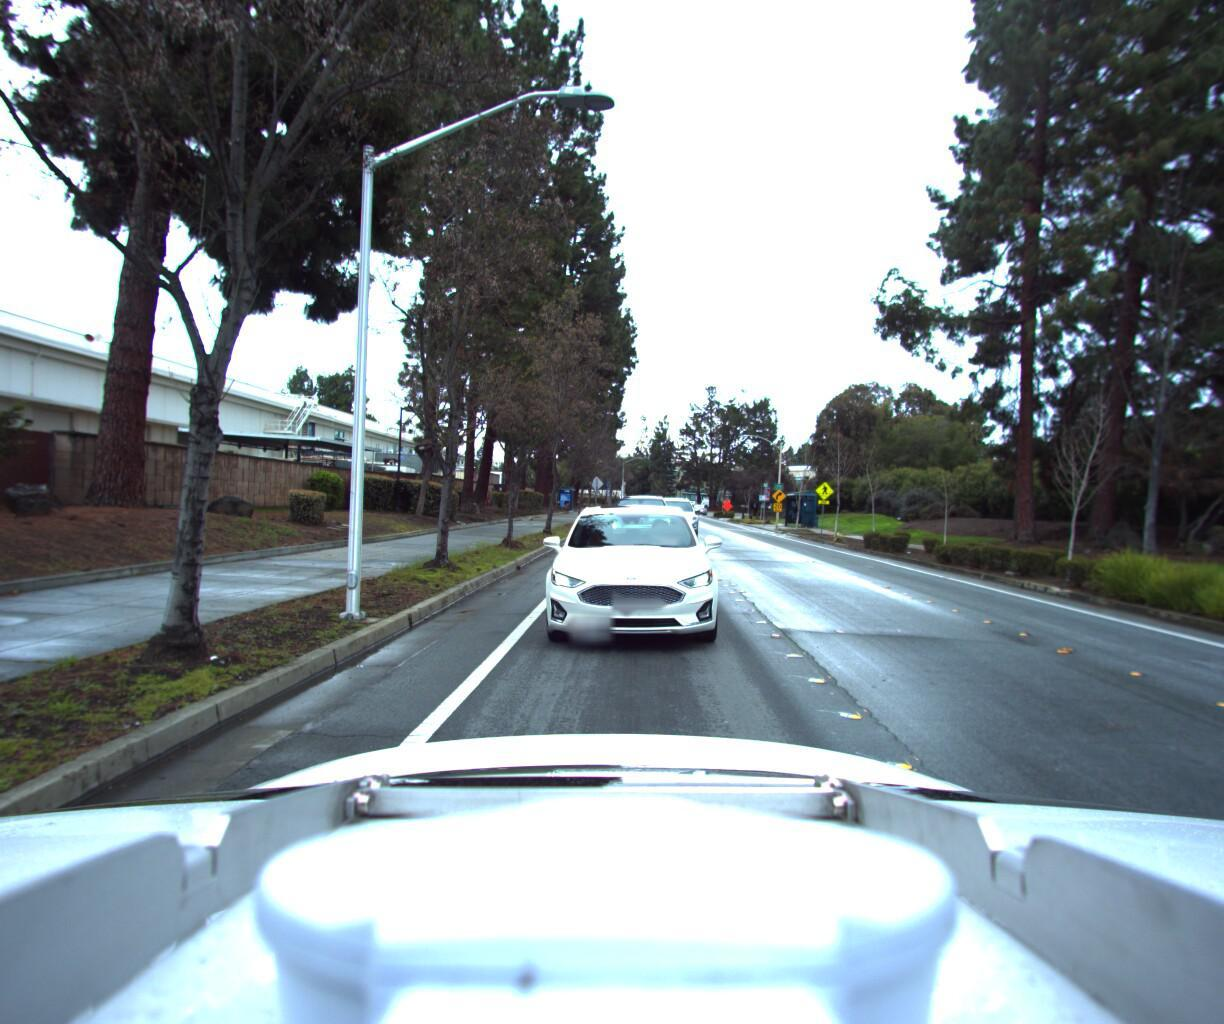car: (535, 492, 730, 661), (605, 491, 675, 556), (651, 494, 703, 542)
